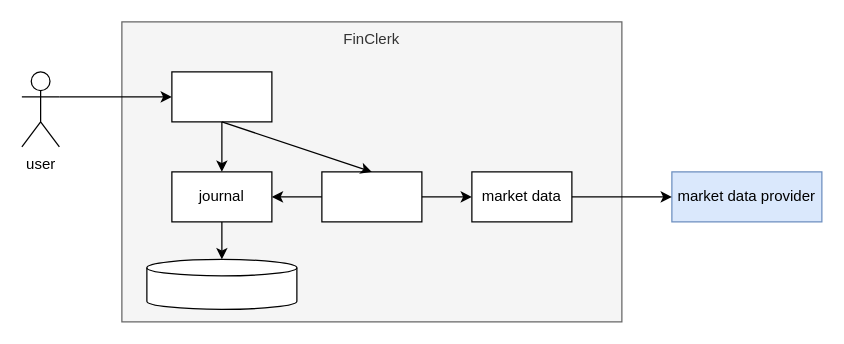
The diagram is 844 pixels wide and 344 high, and some of its shapes have lost their labels. Here are the shapes that lost their labels. From the top down, the centre of each, then its label:
the point at 221,96: web page
the point at 371,196: analysis
the point at 221,283: light-weight database
